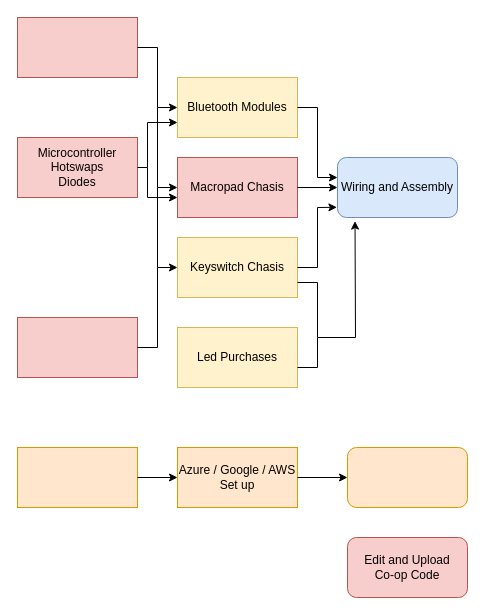
This 485x615 diagram has some shape labels left out. Each missing label, with the box of its shape:
3-D Printer Built: (16, 316, 138, 378)
Design / Source Plans: (16, 16, 138, 78)
Production Copy: (346, 446, 468, 508)
Project Premise: (16, 446, 138, 508)
